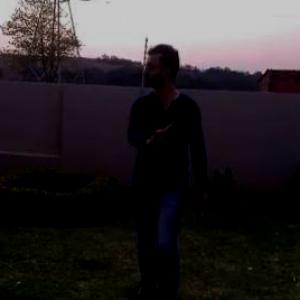takeoff-hand: (143, 113, 178, 152)
